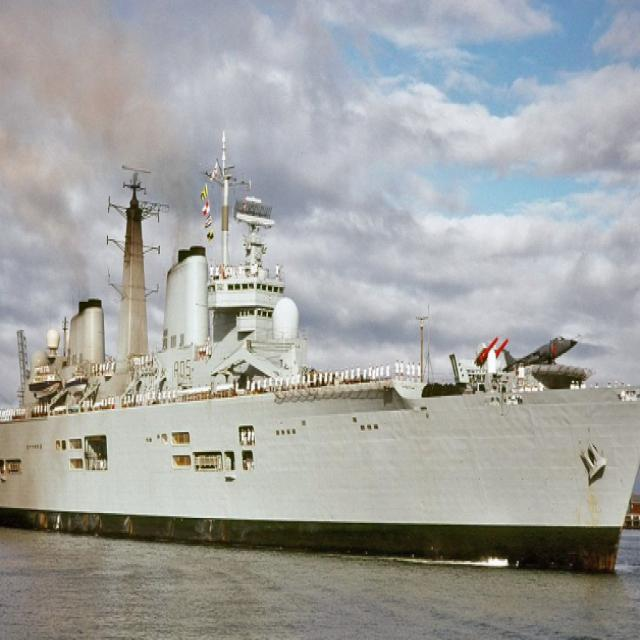Portanaves: (1, 125, 640, 605)
